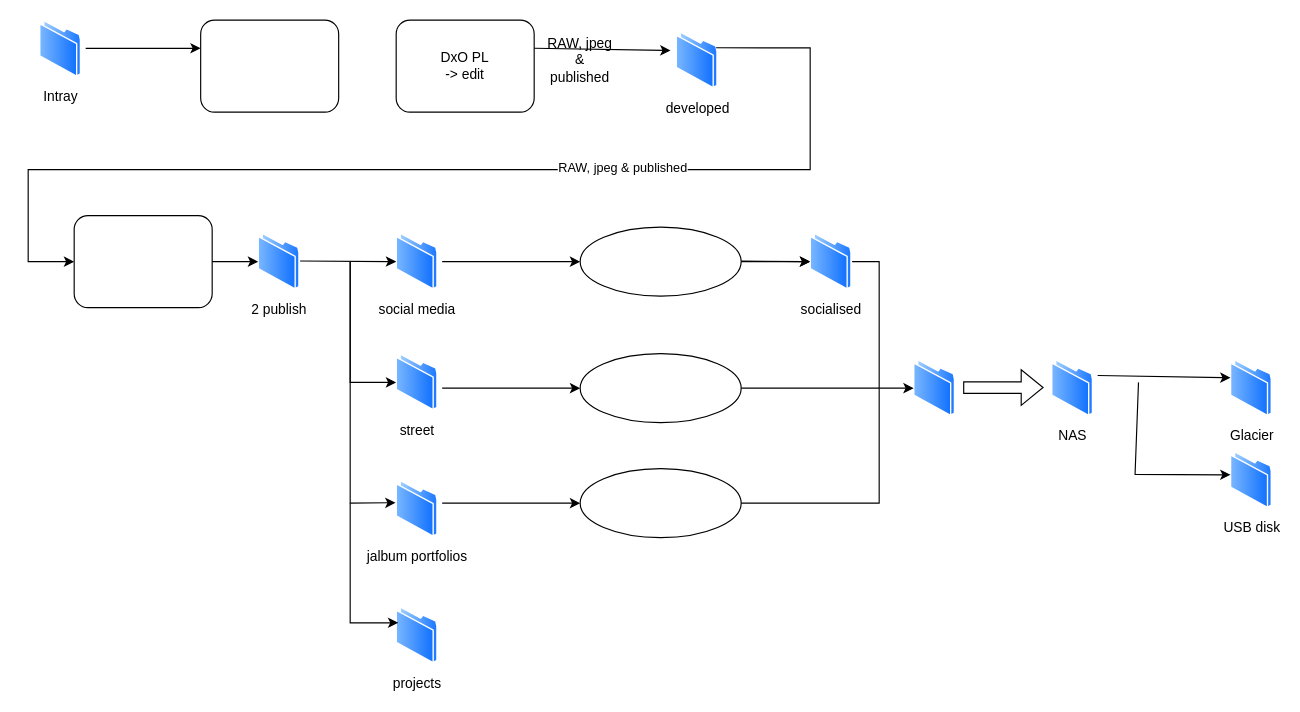
The diagram is 1300 pixels wide and 712 high, and some of its shapes have lost their labels. The centre of each missing label's shape, as x and y in pixels:
"FastRawViewer -> cull & add rating (optional)" goes at (x=269, y=65).
"iancummings.x10.mx" goes at (x=660, y=502).
"Instagram, threads, Vero, foto.App" goes at (x=660, y=261).
"Lightrocket" goes at (x=660, y=387).
"out-tray" goes at (x=934, y=387).
"select images" goes at (x=142, y=261).
